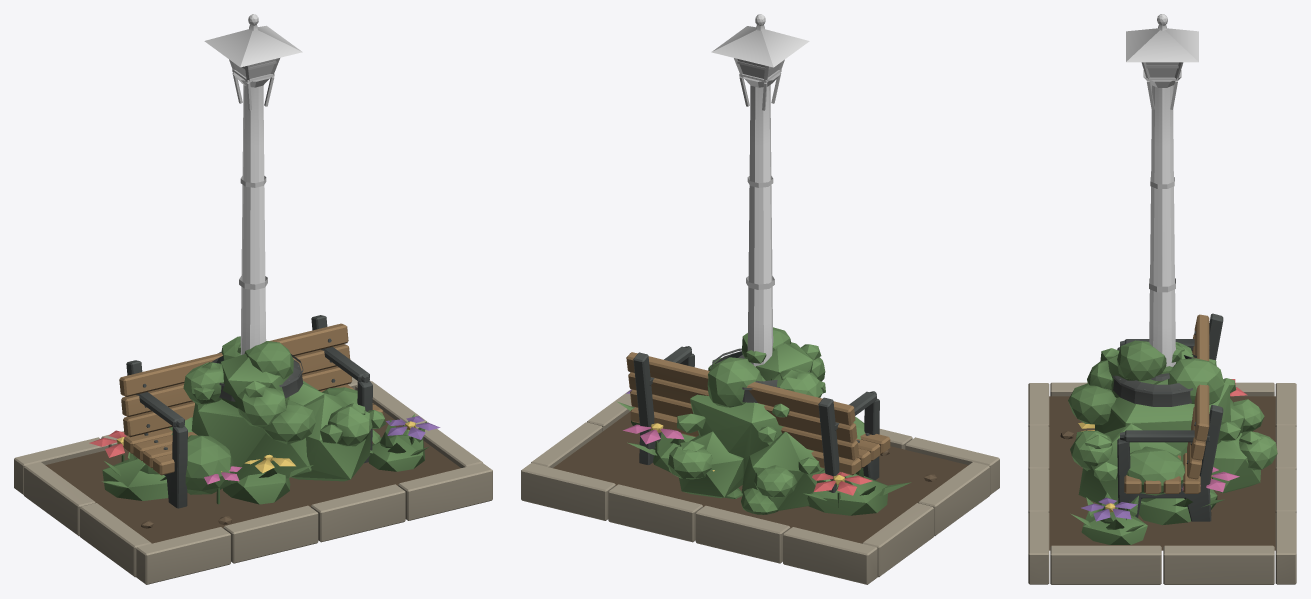
The model's file is street-furniture-near.glb.
3 renders of one model, left to right at view 1: azimuth 30°, elevation 25°; view 2: azimuth 150°, elevation 25°; view 3: azimuth 270°, elevation 25°, orthographic.
Parts seen in each view (by area): view 1: BedNear, BushNear, BenchNear, LampPoleNear, BinNear; view 2: BedNear, BushNear, BenchNear, LampPoleNear; view 3: BedNear, BushNear, LampPoleNear, BenchNear, BinNear, LampHeadNear.
Part boxes in pixels (<box>): BedNear: <box>14,377,492,584</box>; BushNear: <box>136,336,385,494</box>; BenchNear: <box>119,315,383,508</box>; LampPoleNear: <box>204,14,302,354</box>; BinNear: <box>211,352,303,401</box>; BedNear: <box>521,389,999,584</box>; BushNear: <box>668,327,865,514</box>; BenchNear: <box>626,346,890,492</box>; LampPoleNear: <box>711,14,809,366</box>; BedNear: <box>1028,379,1296,584</box>; BushNear: <box>1068,340,1277,505</box>; LampPoleNear: <box>1126,14,1198,366</box>; BenchNear: <box>1117,313,1223,521</box>; BinNear: <box>1113,354,1196,406</box>; LampHeadNear: <box>1146,62,1178,77</box>.
Size of the model in its own units: 2.34 by 3.09 by 1.54.
